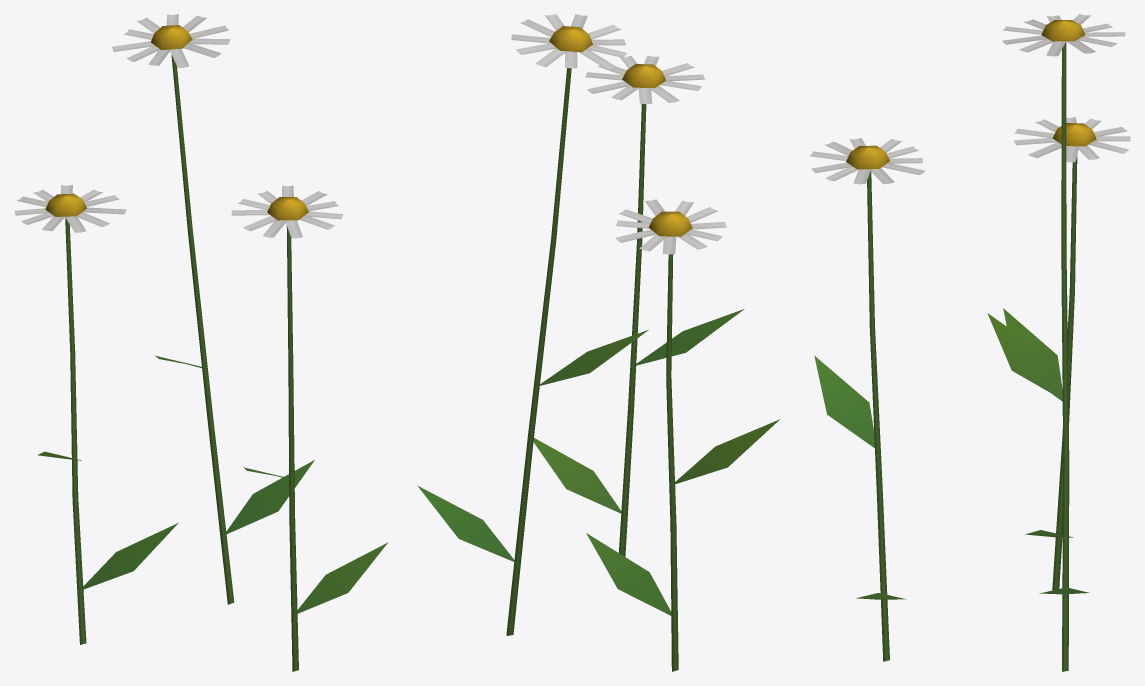
File: flower-daisy-b.lod1.glb
3 views of the same model, side by side, from view 1: azimuth 30°, elevation 25°; view 2: azimuth 150°, elevation 25°; view 3: azimuth 270°, elevation 25° (orthographic). The views are drawn at different scales.
Parts seen in each view (by area): view 1: flower-daisy-b.lod1; view 2: flower-daisy-b.lod1; view 3: flower-daisy-b.lod1.
Boxes of the visible parts, bbox=[...] form: flower-daisy-b.lod1: bbox=[14, 14, 387, 671]; flower-daisy-b.lod1: bbox=[417, 14, 780, 671]; flower-daisy-b.lod1: bbox=[809, 14, 1130, 671].
Bounding box in the file's own units: 0.2285 × 0.4177 × 0.1965.
